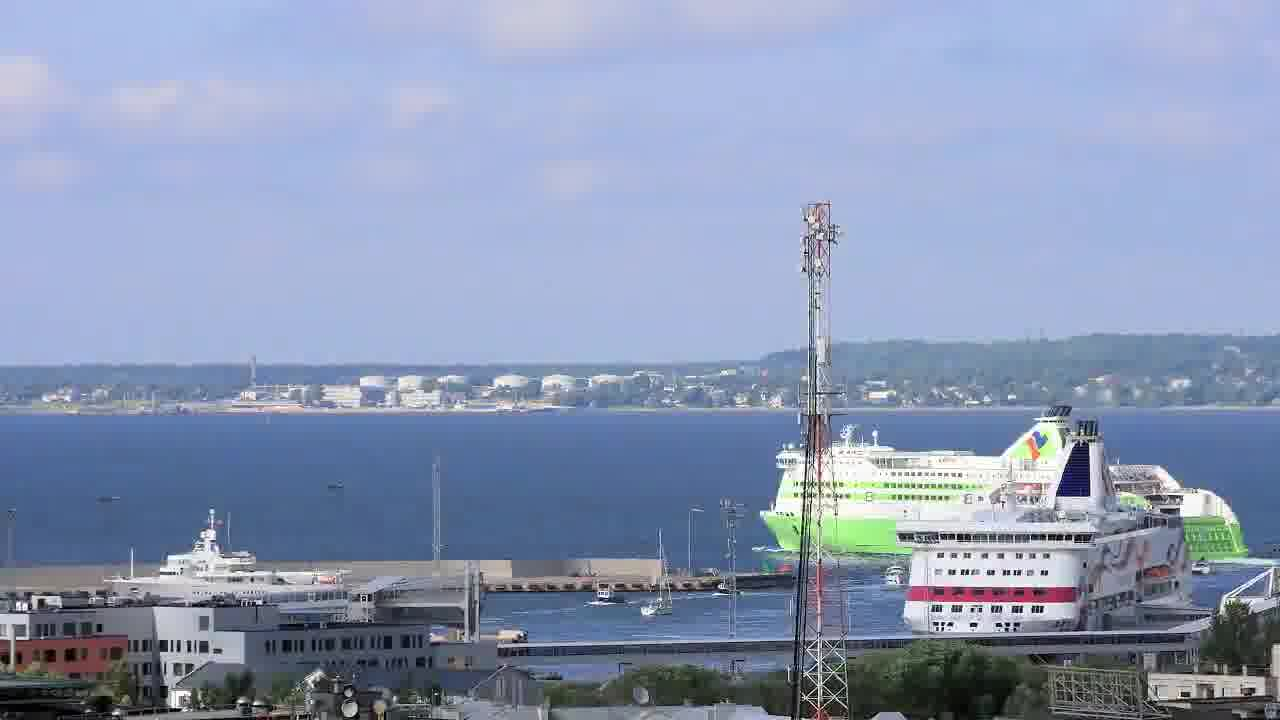type-0: (573, 573, 625, 616), (636, 576, 678, 626)
type-3: (868, 415, 1225, 638), (756, 421, 1247, 574), (84, 511, 353, 609)
